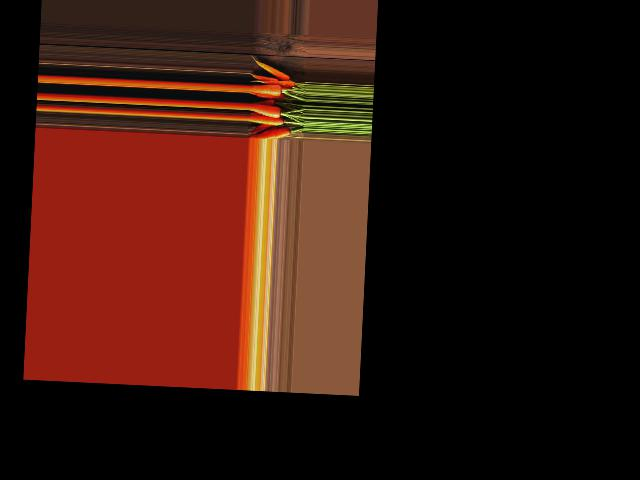carrot: (228, 35, 296, 68)
